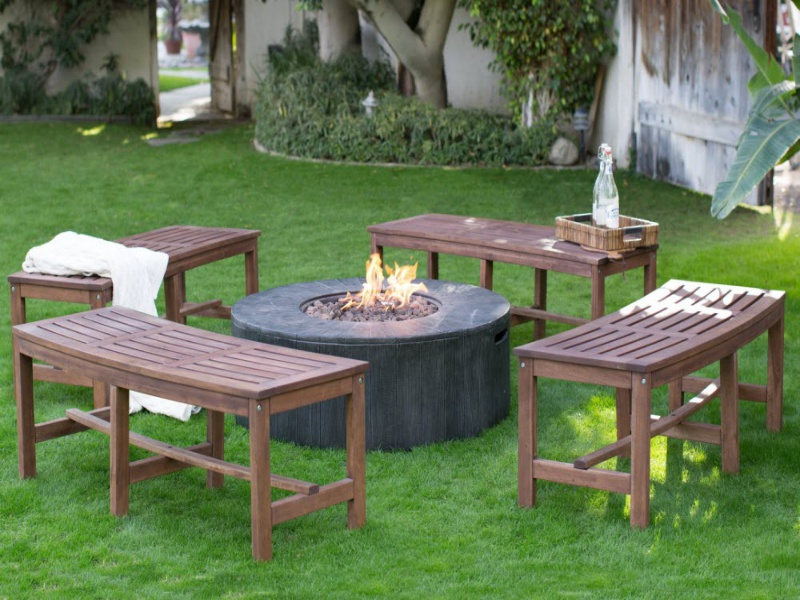fire: (355, 256, 422, 306)
